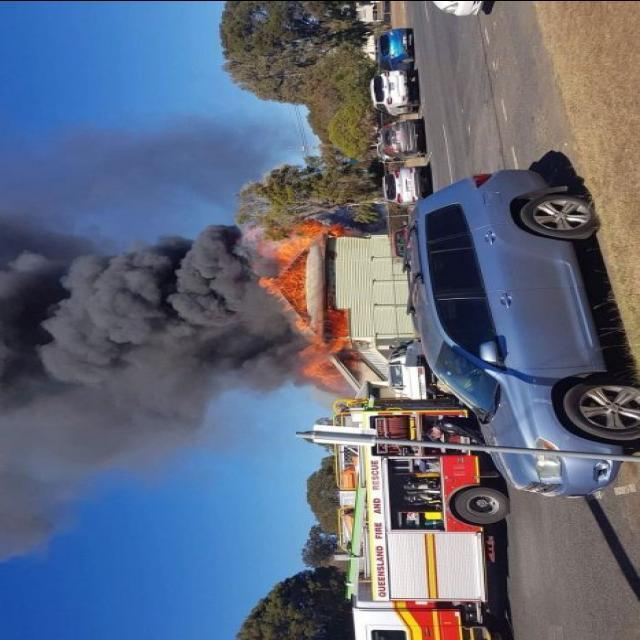Fire: (244, 225, 362, 386)
